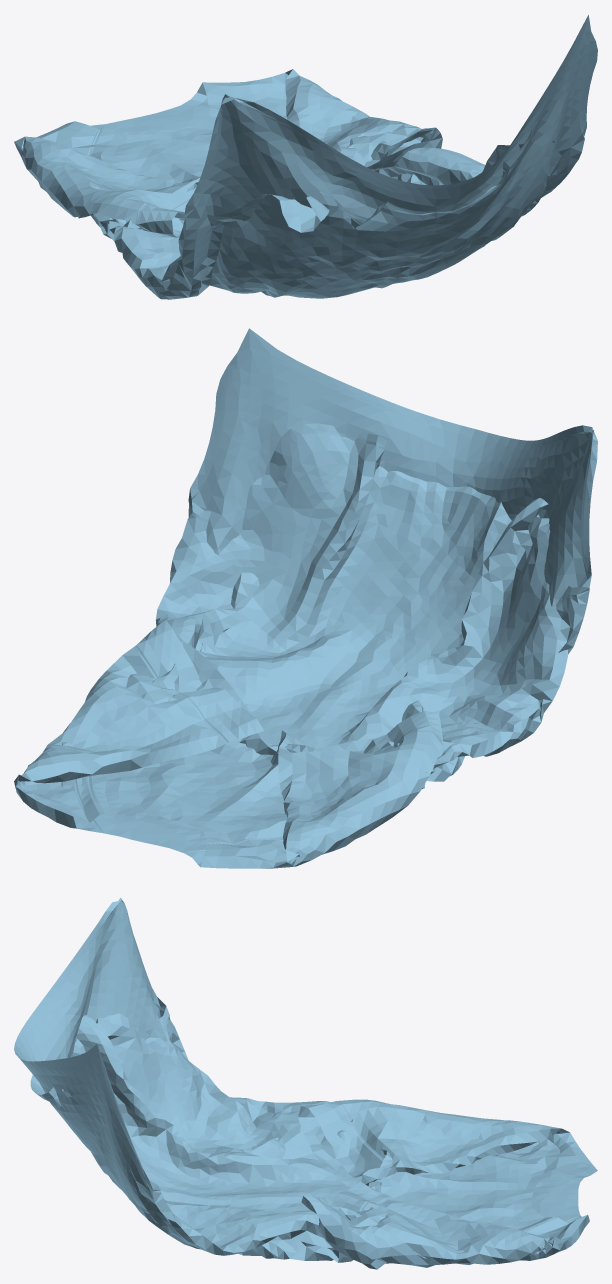
File: frame_06.glb
3 renders of one model, top to bottom at view 1: azimuth 30°, elevation 25°; view 2: azimuth 150°, elevation 25°; view 3: azimuth 270°, elevation 25°, orthographic. The views are drawn at different scales.
Parts seen in each view (by area): view 1: frame_06.obj; view 2: frame_06.obj; view 3: frame_06.obj.
Boxes of the visible parts, <box> form: frame_06.obj: <box>14,15,597,299</box>; frame_06.obj: <box>14,328,597,868</box>; frame_06.obj: <box>14,897,597,1269</box>.
Bounding box in the file's own units: 1.15 × 0.7434 × 1.66.
